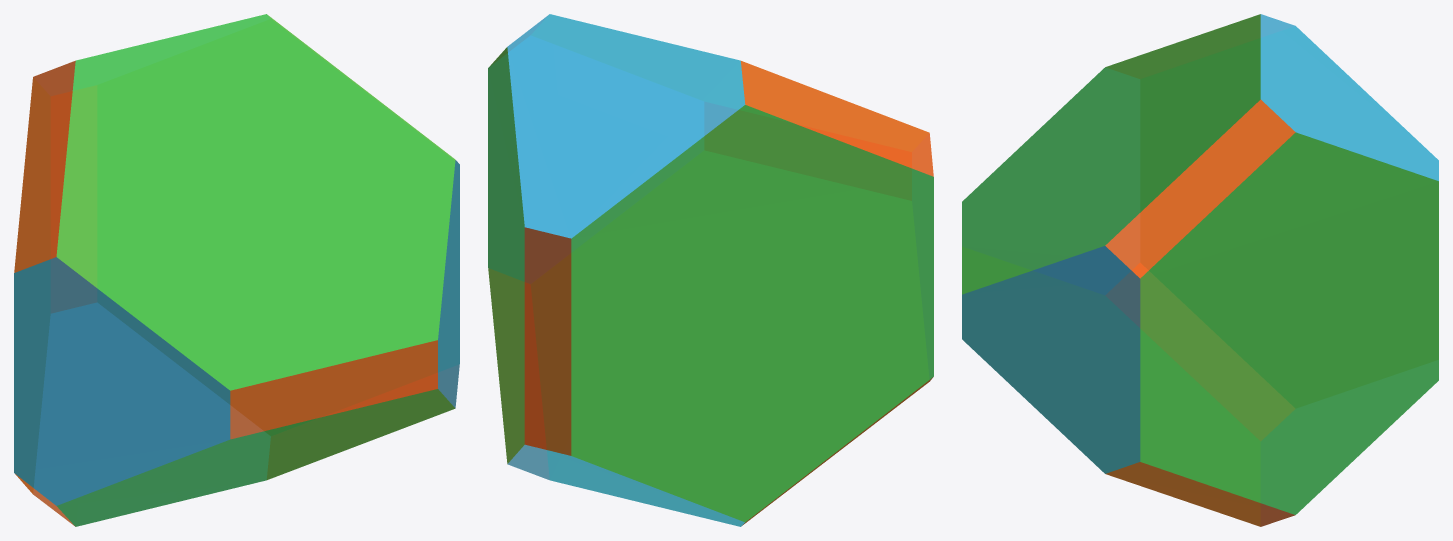
The model's file is Mobius24Dual.obj.
3 renders of one model, left to right at view 1: azimuth 30°, elevation 25°; view 2: azimuth 150°, elevation 25°; view 3: azimuth 270°, elevation 25°, orthographic. The views are drawn at different scales.
Bounding box in the file's own units: 1.23 × 1.23 × 1.24.
